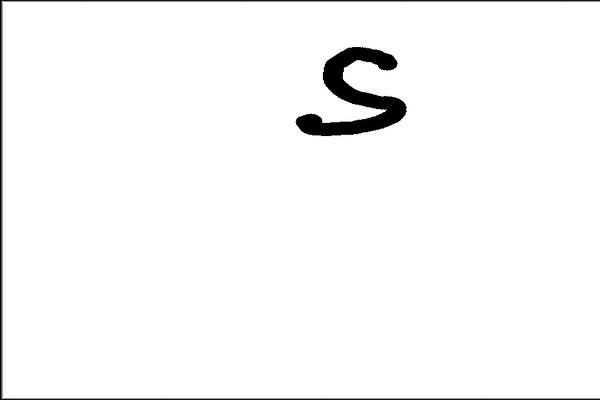S: (288, 43, 411, 142)
